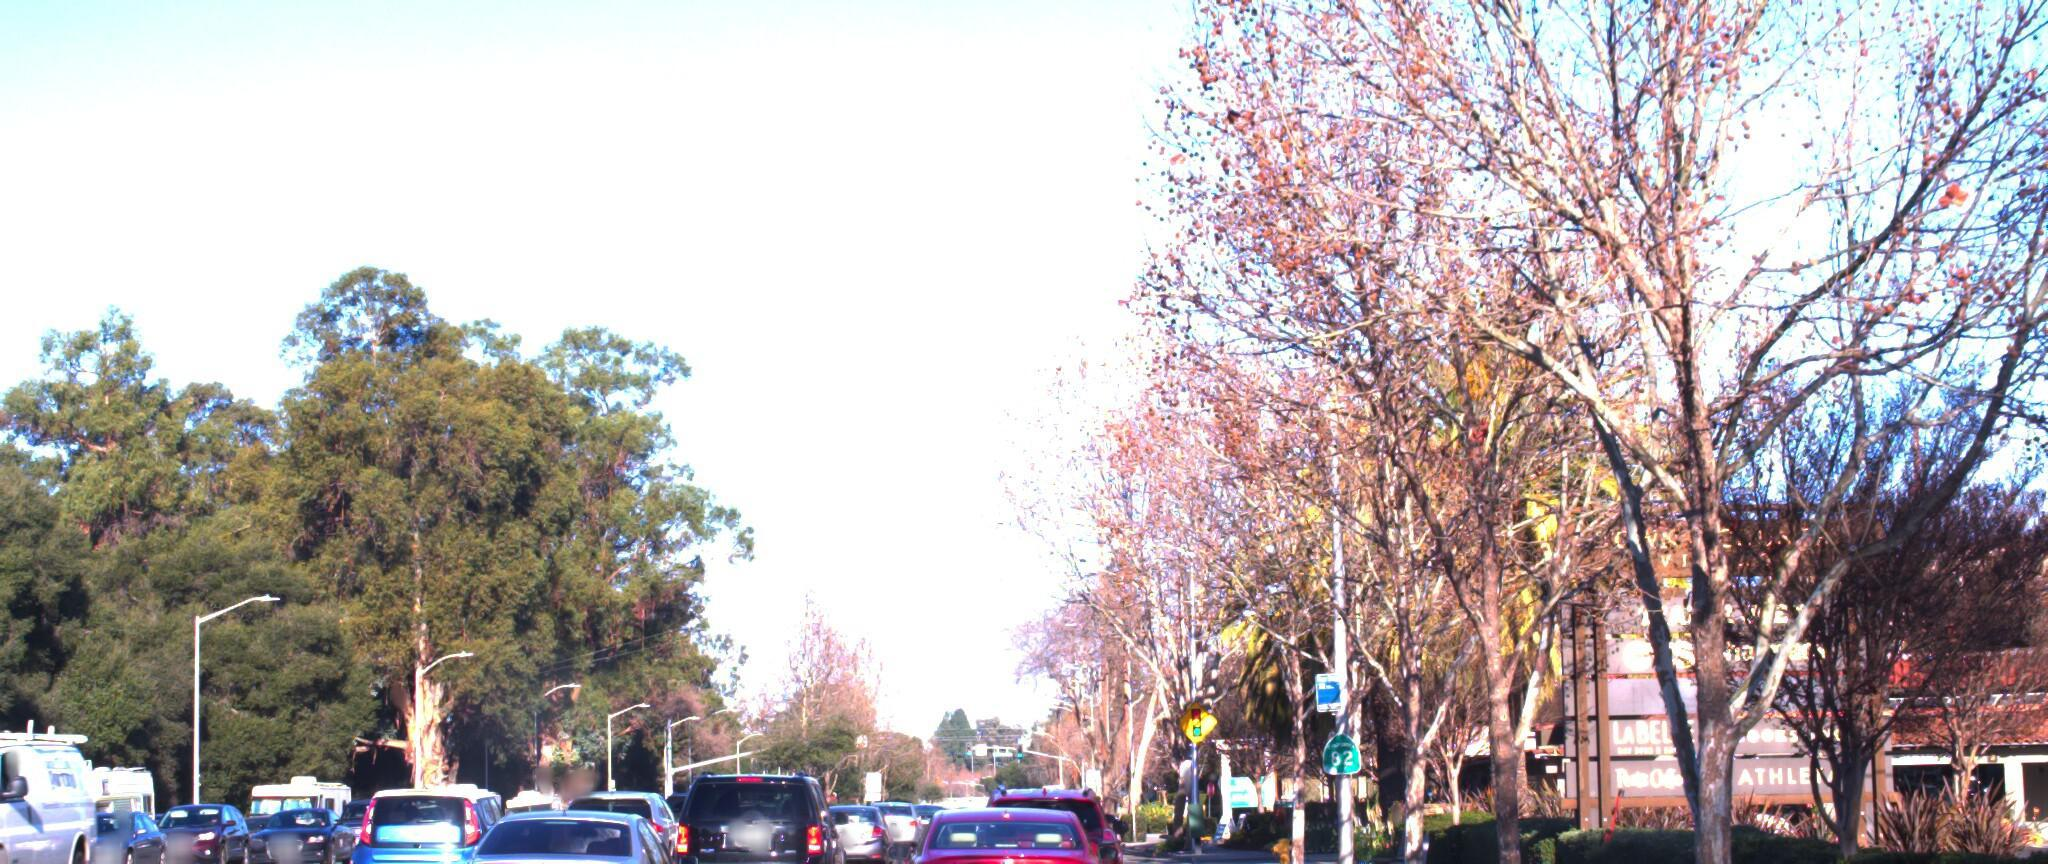car: (665, 737, 842, 864), (0, 700, 131, 864), (456, 784, 721, 864), (342, 764, 532, 864), (893, 784, 1125, 864), (974, 766, 1126, 864), (563, 764, 696, 864), (819, 780, 906, 854)
